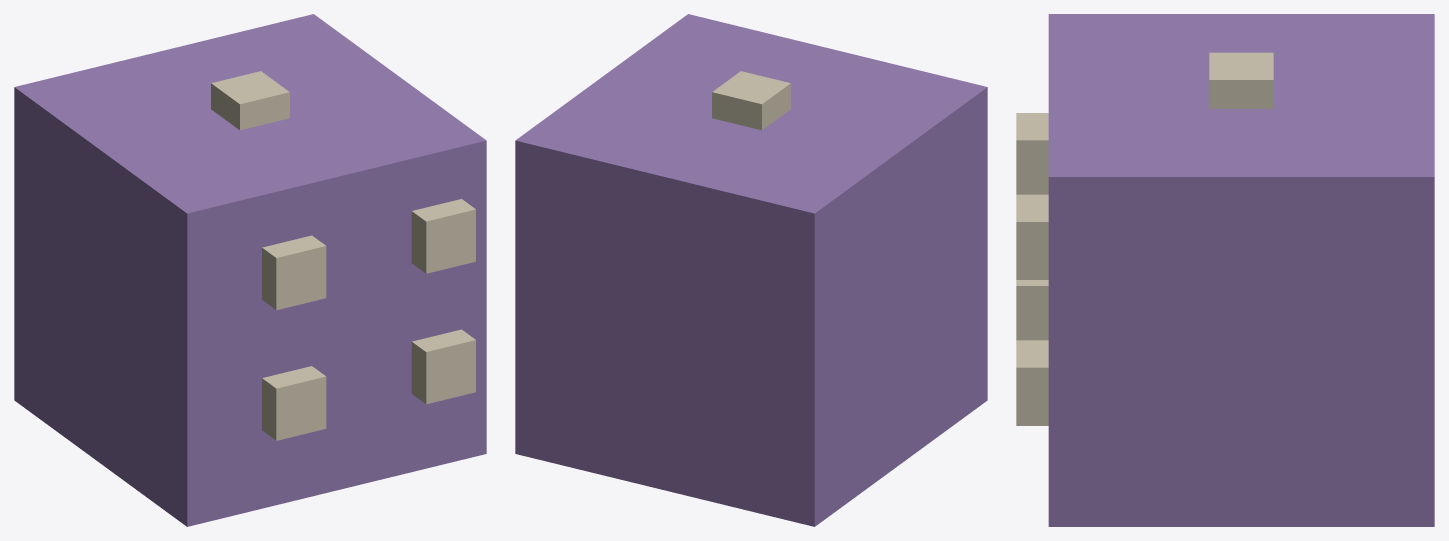
Rendered from games-06.glb.
3 views of the same model, side by side, from view 1: azimuth 30°, elevation 25°; view 2: azimuth 150°, elevation 25°; view 3: azimuth 270°, elevation 25° (orthographic). The views are drawn at different scales.
Parts seen in each view (by area): view 1: Giant dice; view 2: Giant dice; view 3: Giant dice.
Boxes of the visible parts, left/top/right/bottom form: Giant dice: left=14, top=14, right=486, bottom=526; Giant dice: left=515, top=14, right=987, bottom=526; Giant dice: left=1016, top=14, right=1434, bottom=526.
Bounding box in the file's own units: 0.96 × 1.04 × 1.04.
